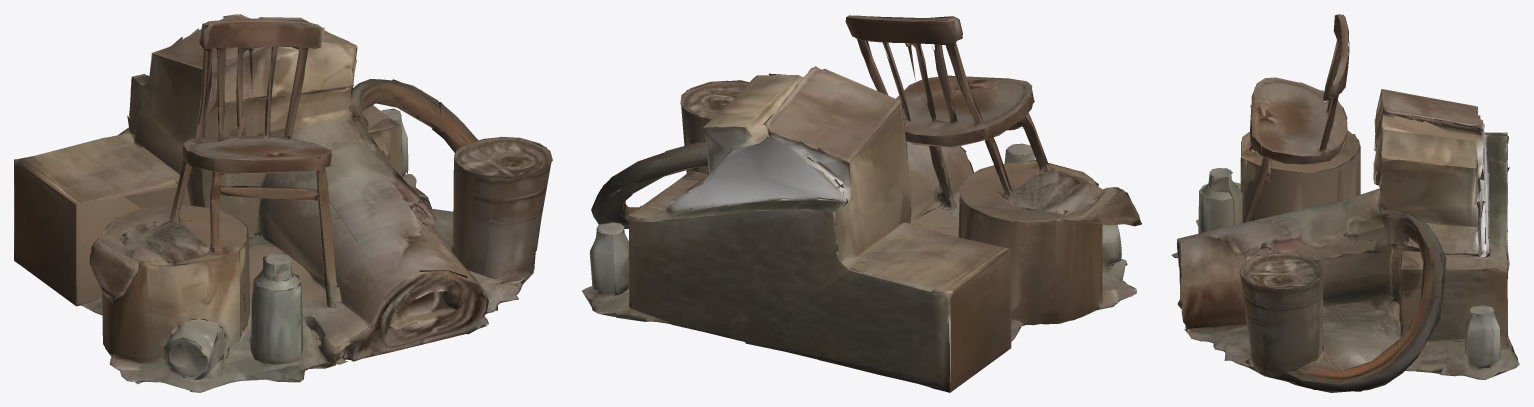
Rendered from basement_junk.glb.
3 renders of one model, left to right at view 1: azimuth 30°, elevation 25°; view 2: azimuth 150°, elevation 25°; view 3: azimuth 270°, elevation 25°, orthographic. The views are drawn at different scales.
Visible parts, largest first — view 1: lair_junk; view 2: lair_junk; view 3: lair_junk.
Part boxes in pixels (left/top/right/bottom): lair_junk: left=14, top=14, right=552, bottom=392; lair_junk: left=582, top=14, right=1141, bottom=392; lair_junk: left=1171, top=14, right=1519, bottom=392.
Bounding box in the file's own units: 1.2 × 0.6959 × 0.8921.
Materials: 1 (1 with a texture image).
